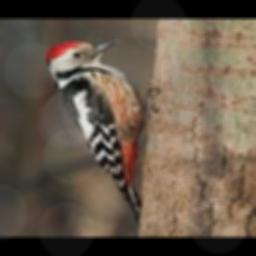Woodpecker: (46, 40, 160, 224)
